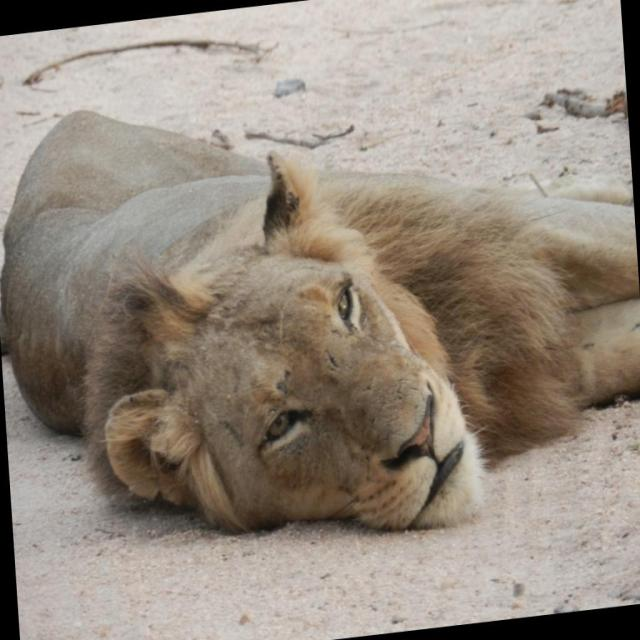Lion: (0, 44, 639, 578)
